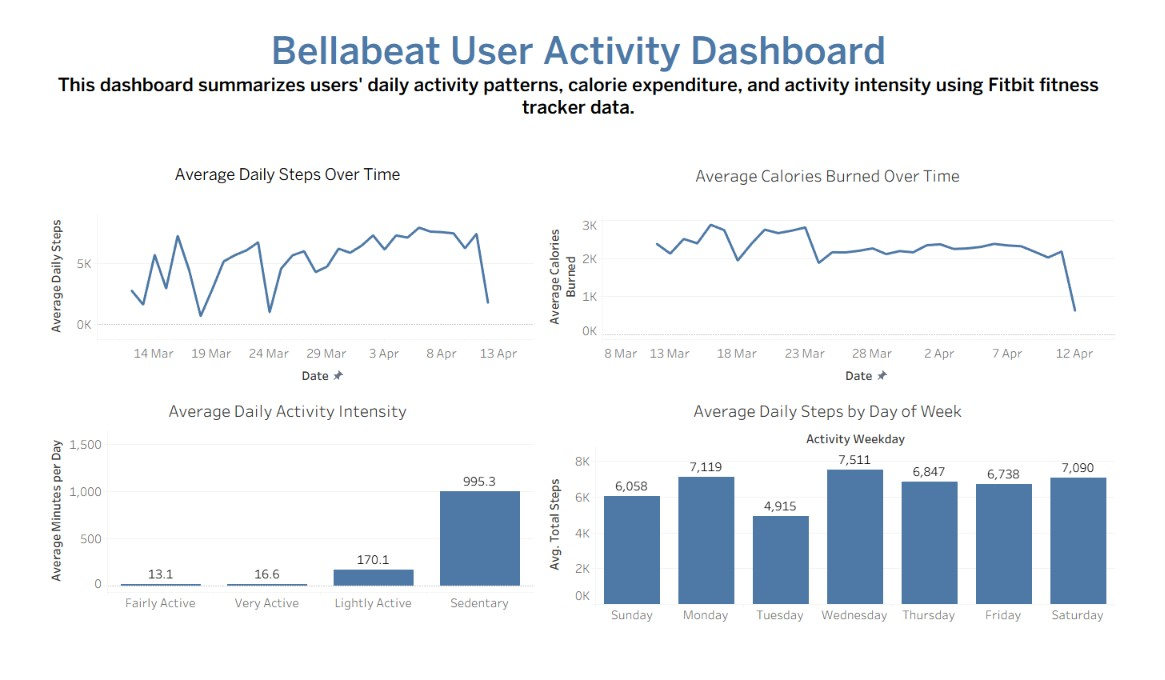

Layout of this report page (visuals, bound fields, positions):
{"tool":"tableau","page":{"name":"Activity Dashboard","canvas":[1366,768],"ordinal":0},"visuals":[{"type":"title","box":[8,8,1350,121]},{"type":"worksheet","title":"Daily Steps Trend","mark":"Line","rows":["TotalSteps"],"cols":["ActivityDate"],"box":[8,129,623,338.2]},{"type":"worksheet","title":"Calories Burned Trend","mark":"Automatic","rows":["Calories"],"cols":["ActivityDate"],"box":[631,129,727,338.2]},{"type":"worksheet","title":"Activity Intensity","mark":"Bar","box":[8,467.2,623,292.8]},{"type":"worksheet","title":"Activity by Weekday","mark":"Bar","rows":["TotalSteps"],"cols":["Calculation_1261993759707147"],"box":[631,467.2,727,292.8]}]}

Visuals, with their boxes on the page's 1366x768 design canvas (x1, y1, x2, y2). These are canvas units, not pixel positions in the 1165x680 screenshot, which may show the page scaled, cropped or inside an application window:
title: (left=8, top=8, right=1358, bottom=129)
"Daily Steps Trend" worksheet (Line marks): (left=8, top=129, right=631, bottom=467)
"Calories Burned Trend" worksheet: (left=631, top=129, right=1358, bottom=467)
"Activity Intensity" worksheet (Bar marks): (left=8, top=467, right=631, bottom=760)
"Activity by Weekday" worksheet (Bar marks): (left=631, top=467, right=1358, bottom=760)
